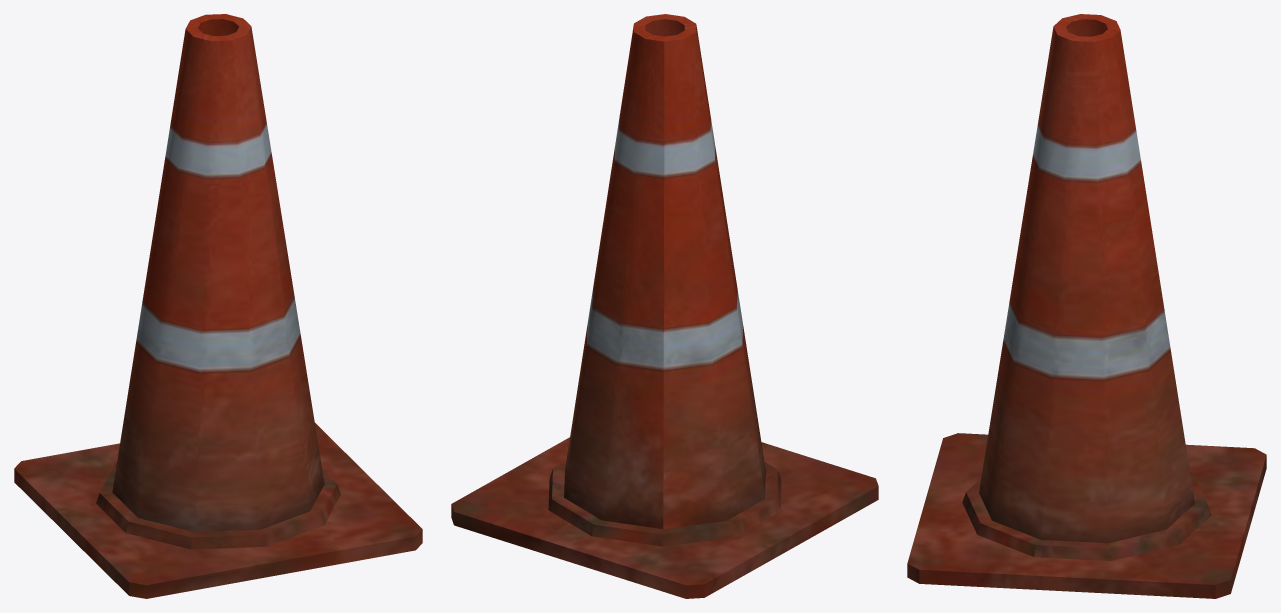
File: cones.glb
3 renders of one model, left to right at view 1: azimuth 30°, elevation 25°; view 2: azimuth 150°, elevation 25°; view 3: azimuth 270°, elevation 25°, orthographic. The views are drawn at different scales.
Bounding box in the file's own units: 0.5276 × 0.8023 × 0.5276.
Materials: 1 (1 with a texture image).
